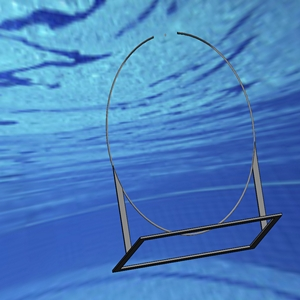circle: (103, 30, 283, 273)
